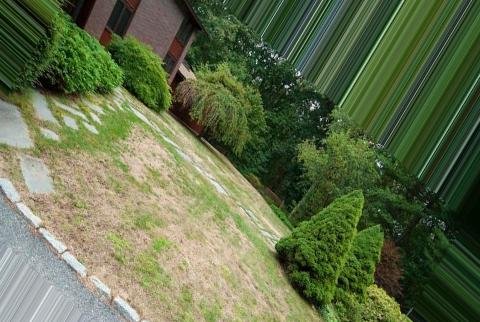patch: (111, 153, 210, 246), (53, 184, 136, 263), (179, 231, 251, 302), (206, 169, 268, 220), (132, 133, 171, 175)
